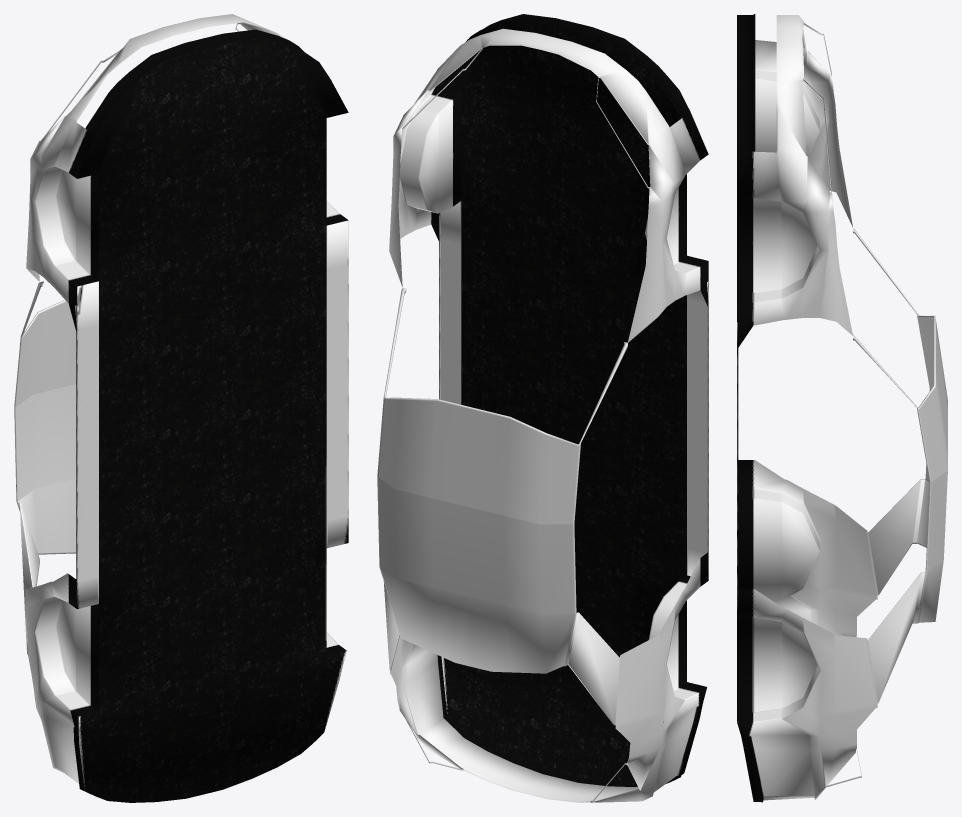
The model's file is Car 1A Chassi.fbx.
3 views of the same model, side by side, from view 1: azimuth 30°, elevation 25°; view 2: azimuth 150°, elevation 25°; view 3: azimuth 270°, elevation 25° (orthographic). The views are drawn at different scales.
Parts seen in each view (by area): view 1: 1AU Chassi (3, Baked); view 2: 1AU Chassi (3, Baked); view 3: 1AU Chassi (3, Baked).
Boxes of the visible parts, <box> form: 1AU Chassi (3, Baked): <box>14,14,348,802</box>; 1AU Chassi (3, Baked): <box>377,14,708,802</box>; 1AU Chassi (3, Baked): <box>737,14,947,802</box>.
Size of the model in its own units: 185 by 492 by 128.
1 material, 1 textured.
